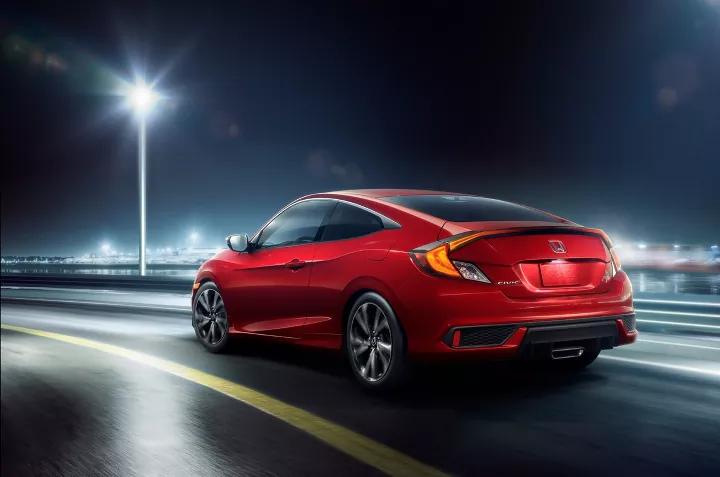car: (189, 184, 643, 392)
